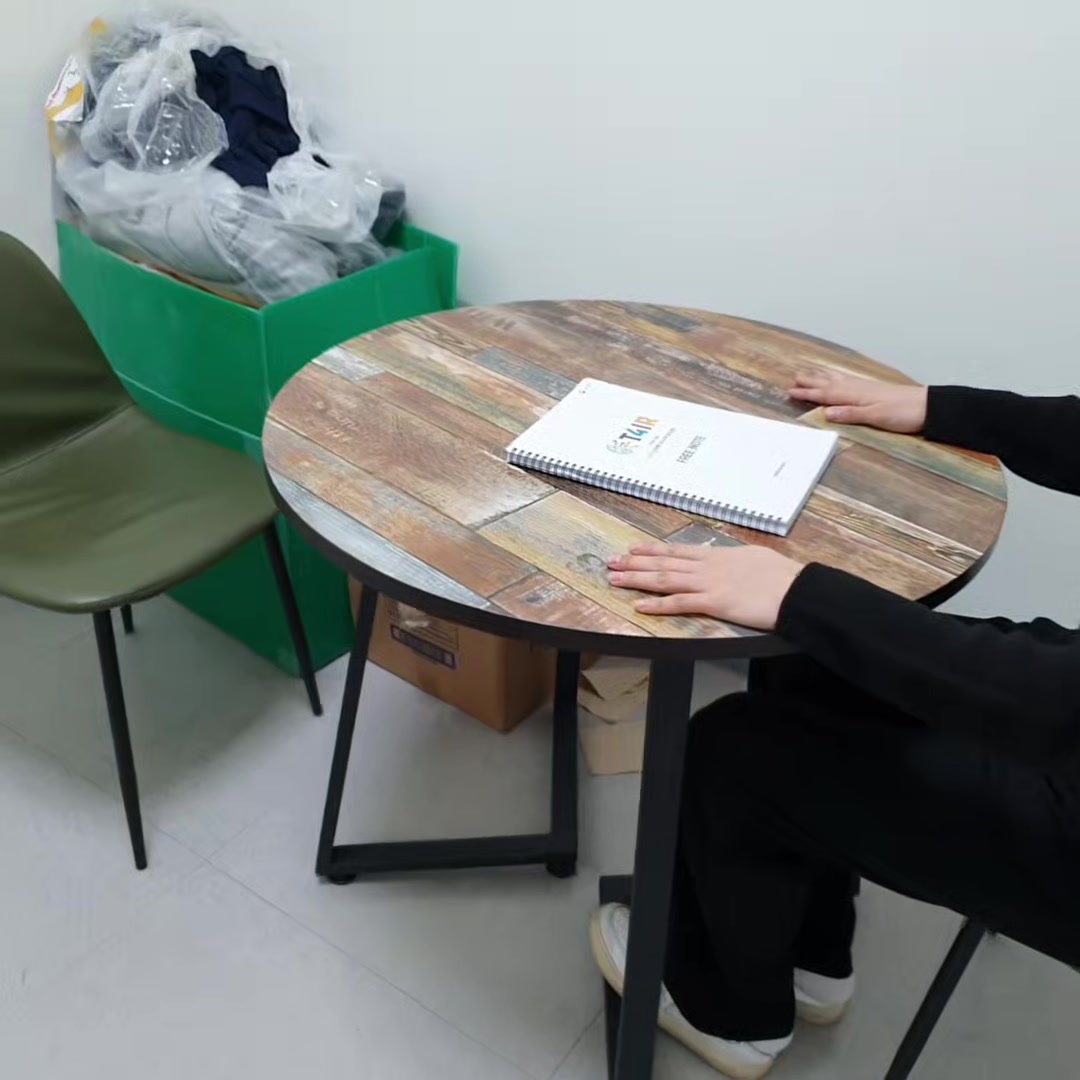book: (502, 370, 851, 545)
